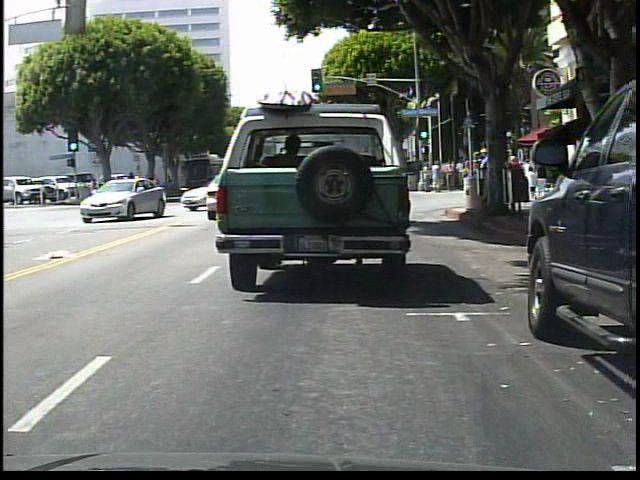person: (508, 153, 526, 222), (477, 148, 493, 207), (525, 164, 542, 206), (535, 156, 549, 201), (432, 161, 443, 194), (446, 160, 457, 192), (421, 163, 431, 193)
